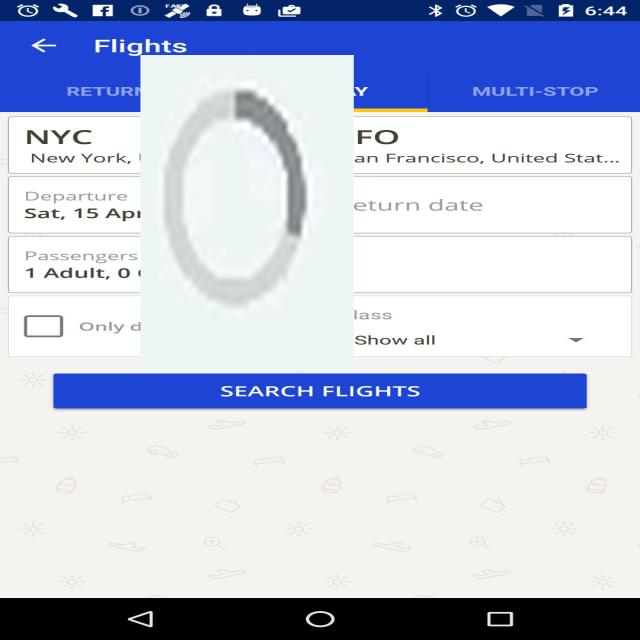misdirection: (140, 55, 354, 372)
